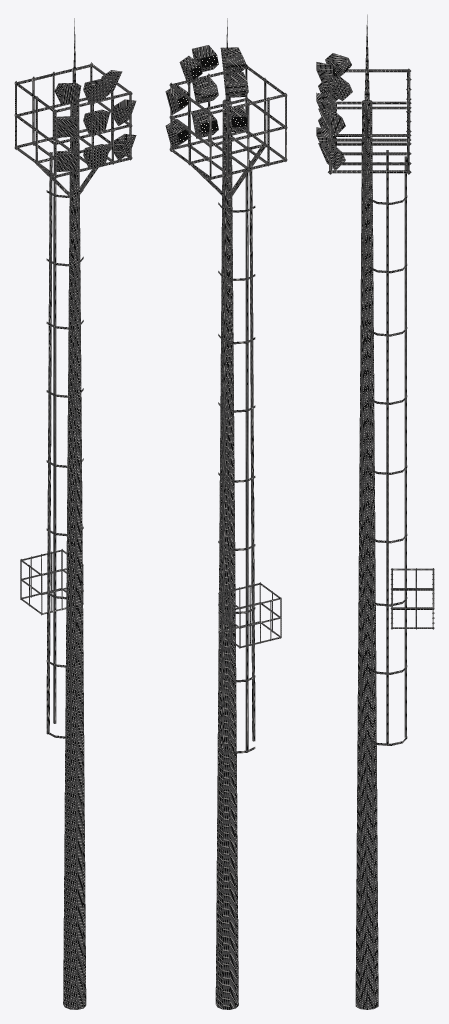
The model's file is POSTELUZ_CARGO_GEN_tall.gltf.
3 renders of one model, left to right at view 1: azimuth 30°, elevation 25°; view 2: azimuth 210°, elevation 25°; view 3: azimuth 270°, elevation 25°, orthographic.
Visible parts, largest first — view 1: node1; view 2: node1; view 3: node1.
Part boxes in pixels (left/top/right/bottom): node1: left=14, top=18, right=136, bottom=1009; node1: left=165, top=18, right=287, bottom=1009; node1: left=316, top=14, right=434, bottom=1009.
Bounding box in the file's own units: 2.41 × 28.16 × 3.05.
